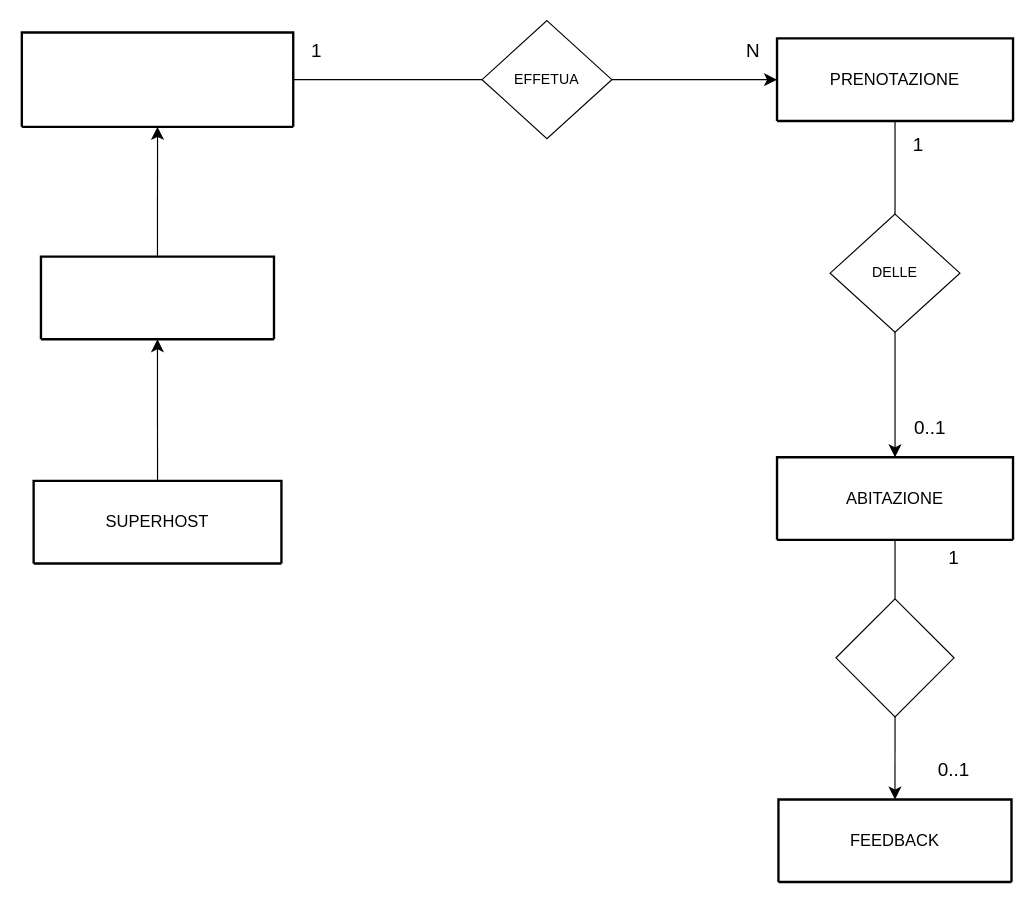
Image size: 1034x904. Some labels were removed from this diagram. Each missing label, with the centre of its shape:
"HOST" belongs at pixel 157 297.
"INVIANDO" belongs at pixel 894 657.
"UTENTE (abstract)" belongs at pixel 157 79.
